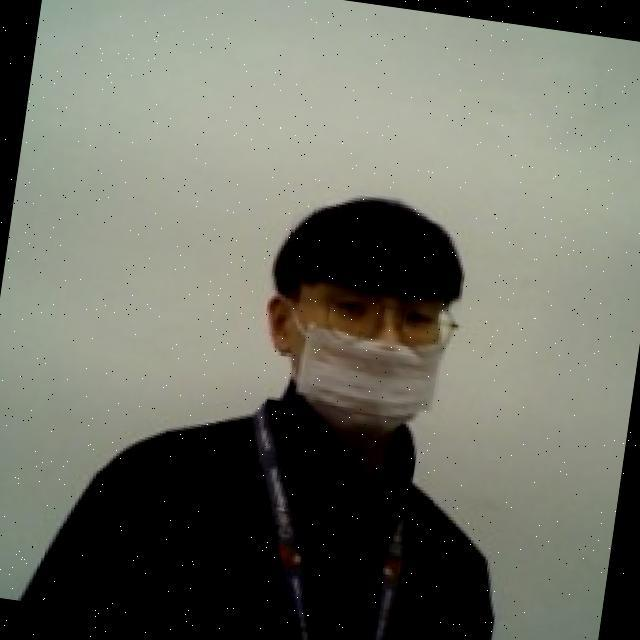mask: (255, 290, 454, 457)
no_gloves: (267, 178, 479, 317)
